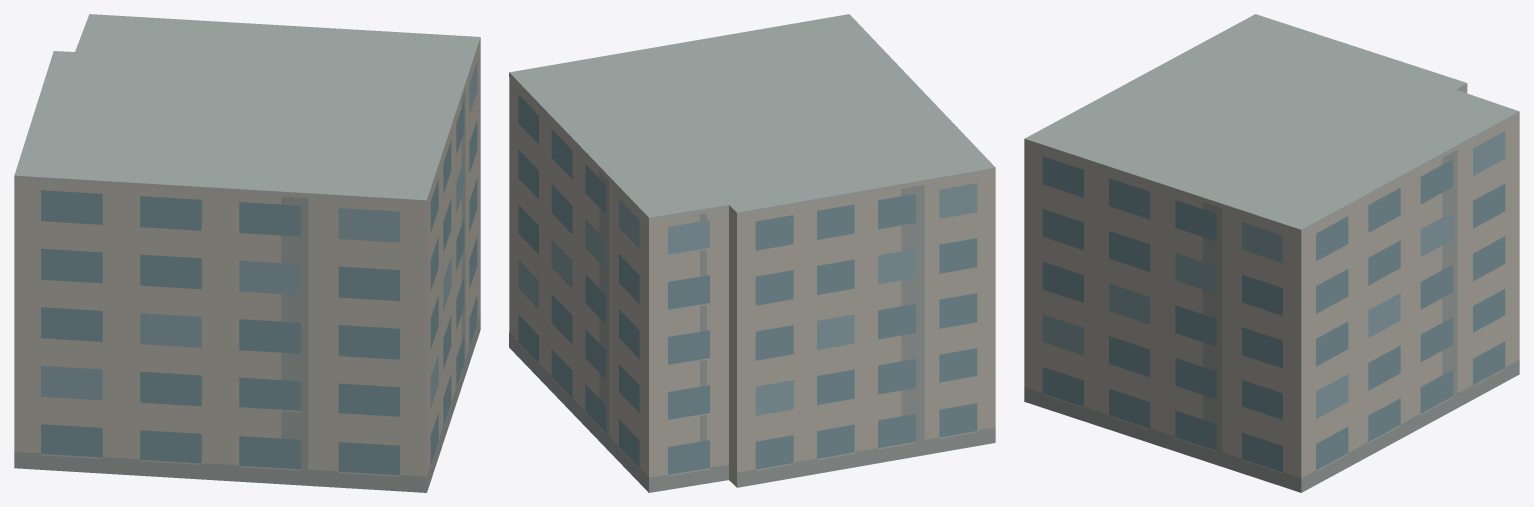
File: survey-upis-32798341.glb
3 renders of one model, left to right at view 1: azimuth 30°, elevation 25°; view 2: azimuth 150°, elevation 25°; view 3: azimuth 270°, elevation 25°, orthographic. The views are drawn at different scales.
Visible parts, largest first — view 1: survey-upis-32798341.tmp; view 2: survey-upis-32798341.tmp; view 3: survey-upis-32798341.tmp.
Part boxes in pixels (x1,y1,x2,y2): survey-upis-32798341.tmp: (14, 14, 480, 492); survey-upis-32798341.tmp: (509, 14, 995, 492); survey-upis-32798341.tmp: (1024, 14, 1519, 492).
Size of the model in its own units: 24.9 by 14.15 by 24.14.
